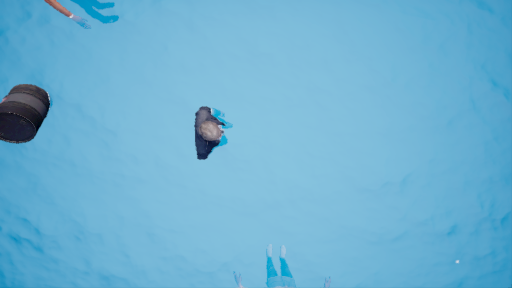person: (189, 97, 235, 169)
